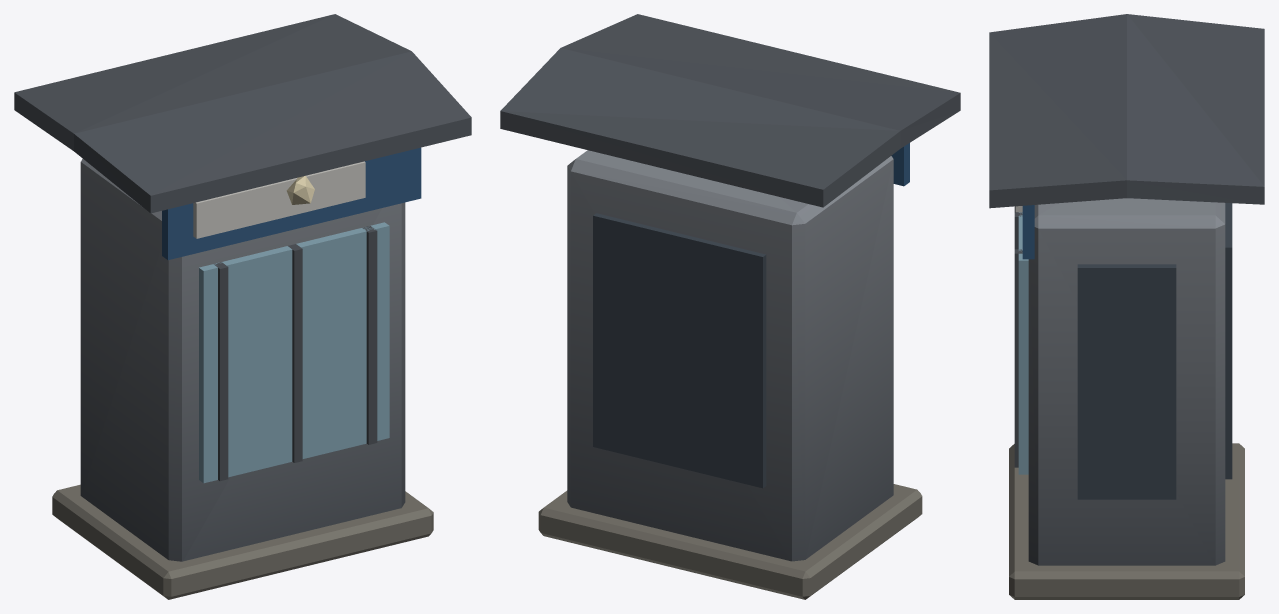
The model's file is info_kiosk_01.glb.
3 renders of one model, left to right at view 1: azimuth 30°, elevation 25°; view 2: azimuth 150°, elevation 25°; view 3: azimuth 270°, elevation 25°, orthographic.
Visible parts, largest first — view 1: info_kiosk_01; view 2: info_kiosk_01; view 3: info_kiosk_01.
Boxes of the visible parts, x1,y1,x2,y2 form: info_kiosk_01: (14, 14, 471, 599); info_kiosk_01: (500, 14, 960, 599); info_kiosk_01: (989, 14, 1264, 599).
Size of the model in its own units: 2 by 2.46 by 1.4.
